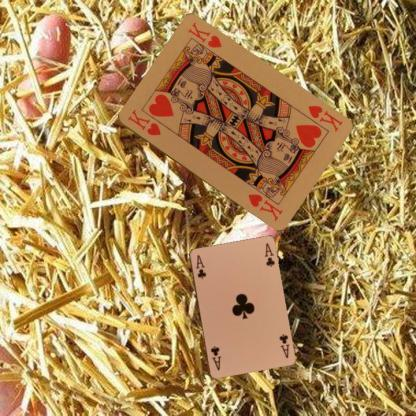Ac: (276, 331, 291, 359), (193, 252, 207, 280)
Kh: (304, 102, 344, 134), (124, 106, 162, 138)
